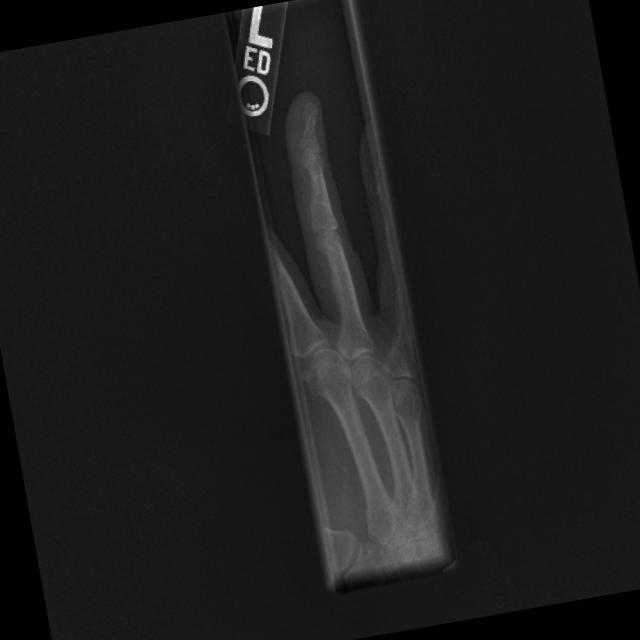fingers positive: (296, 140, 337, 198)
